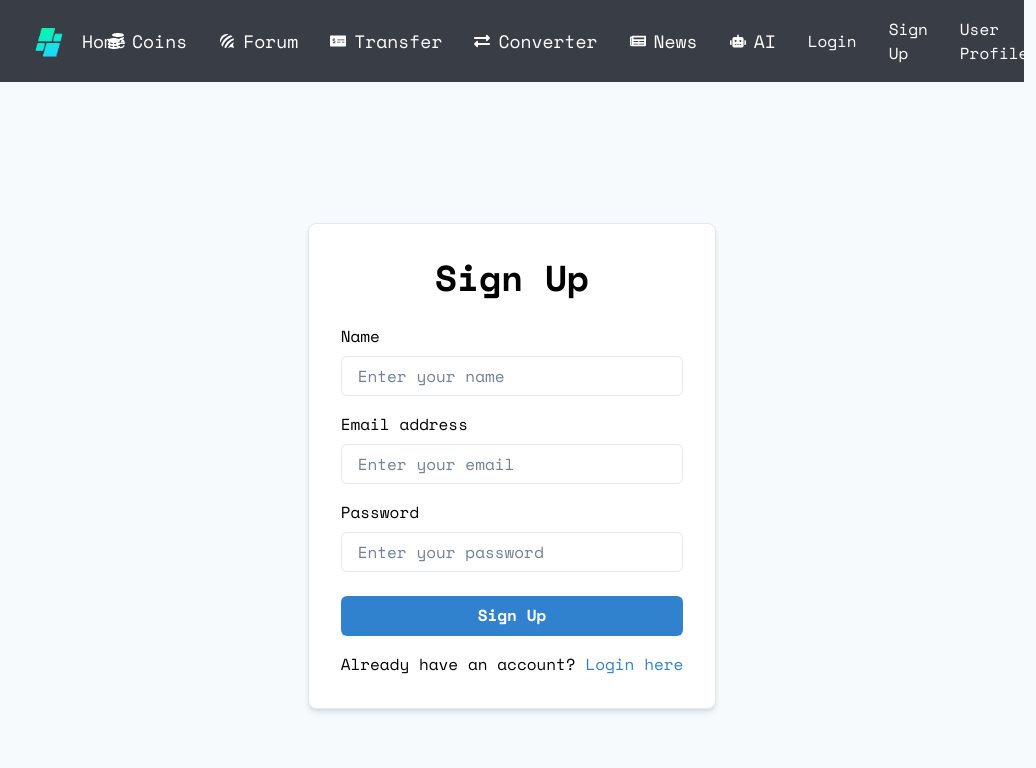
Test: Signup Page › should display password error if password is less than 5 characters
This screenshot has width=1036, height=768.
In the field with test id "signup-name": (513, 376) x1=341 y1=356 x2=684 y2=396, type "John Doe"
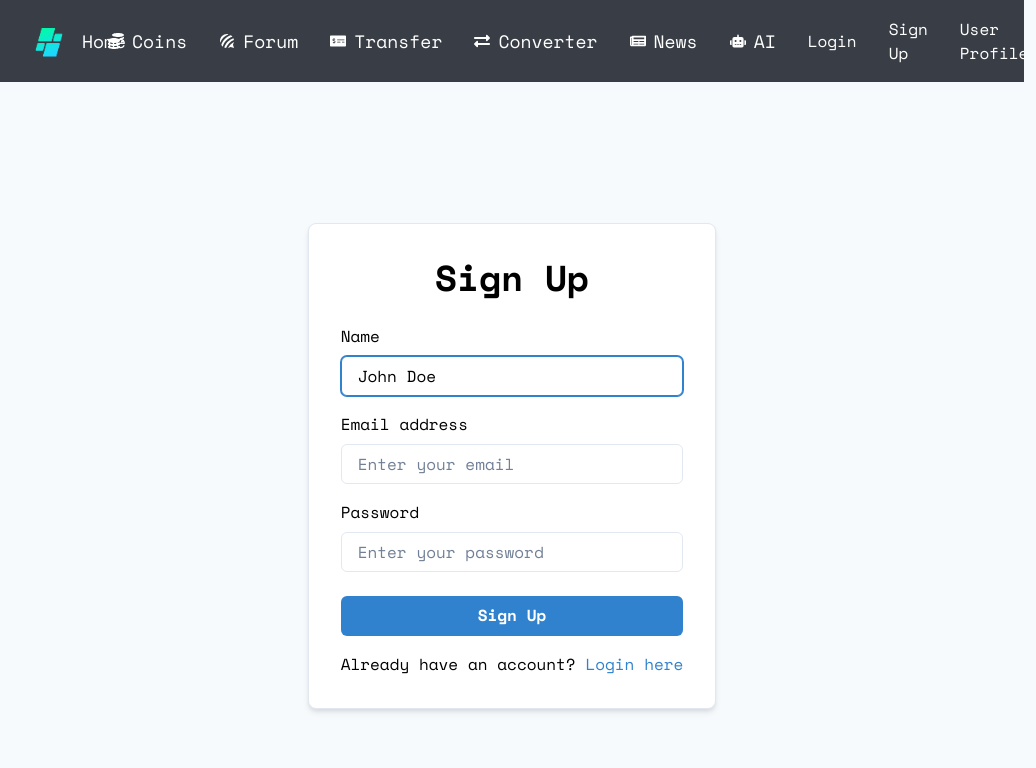
In the field with test id "signup-email": (513, 464) x1=341 y1=444 x2=684 y2=484, type "john.doe@example.com"
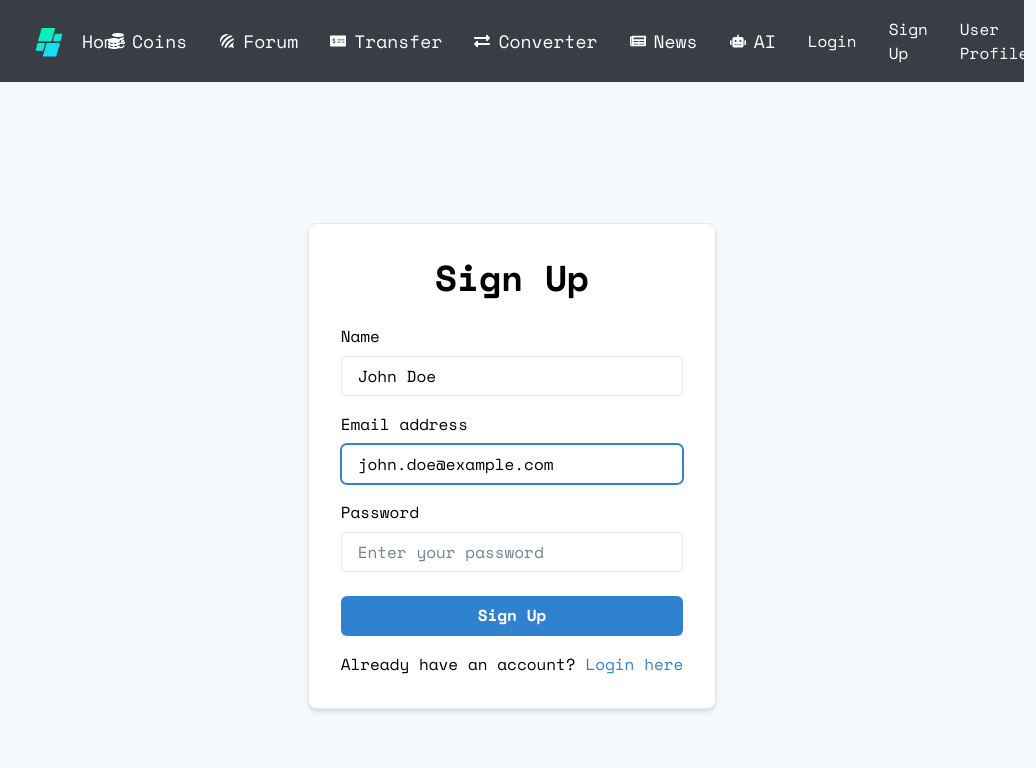
In the password field with test id "signup-password": (513, 552) x1=341 y1=532 x2=684 y2=572, type "1234"
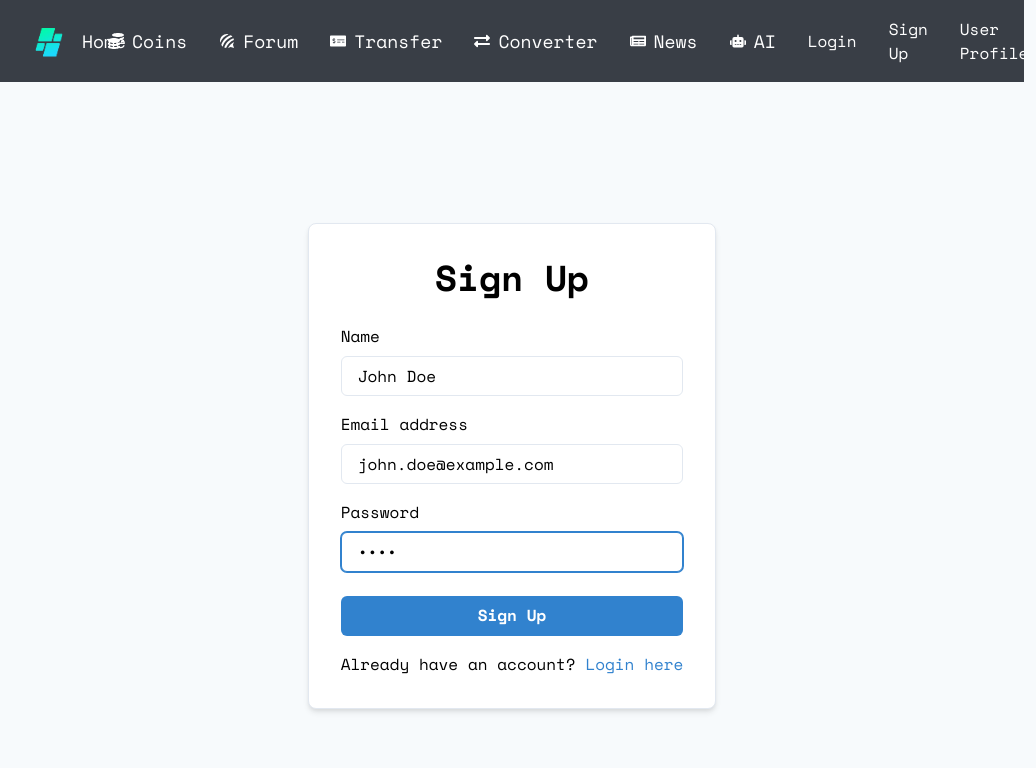
Click the button with test id "signup-button": (513, 616) x1=341 y1=596 x2=684 y2=636
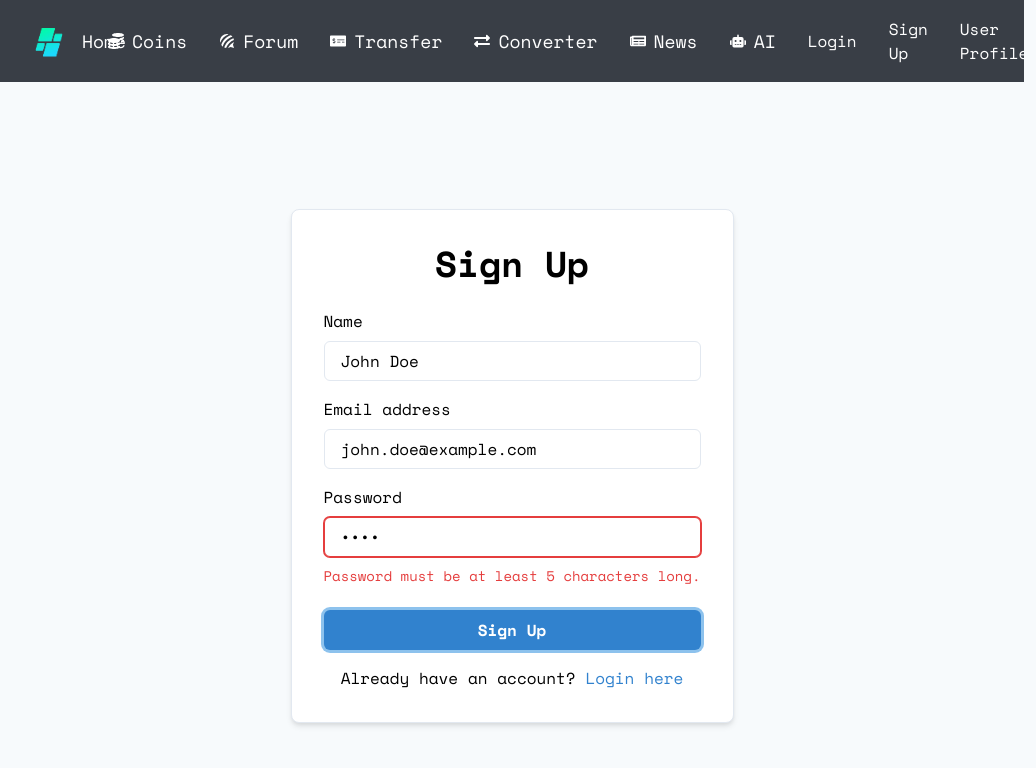
Expected: the text with test id "password-error" reads "Password must be at least 5 characters long.", x1=324 y1=565 x2=701 y2=586
